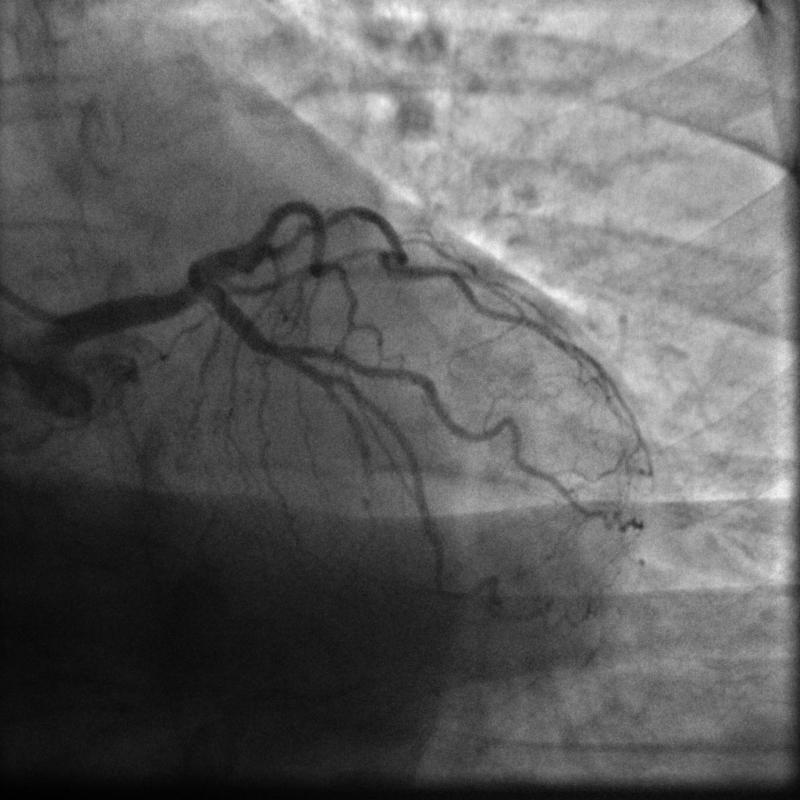Stenosis: (263, 325, 291, 373)
